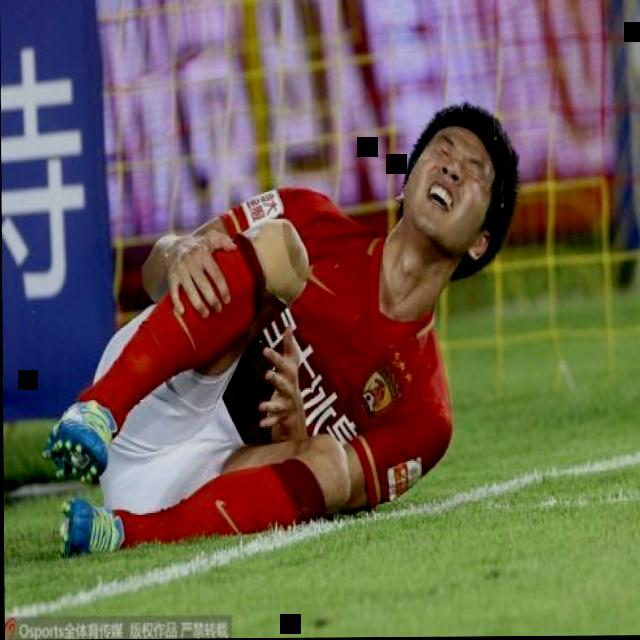Fall-Detected: (33, 61, 537, 568)
